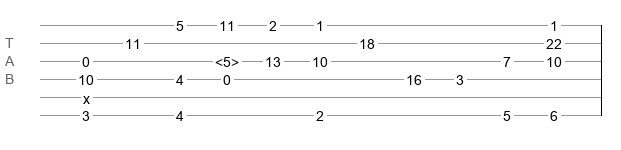0: (82, 54, 90, 64), (223, 72, 231, 82)
1: (316, 18, 324, 28), (550, 18, 558, 28)
10: (78, 72, 94, 82), (312, 54, 328, 64), (546, 54, 562, 64)
11: (125, 36, 141, 46), (219, 18, 235, 28)
13: (265, 54, 281, 64)
16: (406, 72, 422, 82)
18: (359, 36, 375, 46)
2: (269, 18, 277, 28), (316, 108, 324, 118)
22: (546, 36, 562, 46)
3: (82, 108, 90, 118), (456, 72, 464, 82)
4: (176, 72, 184, 82), (176, 108, 184, 118)
5: (176, 18, 184, 28), (503, 108, 511, 118)
6: (550, 108, 558, 118)
7: (503, 54, 511, 64)
harmonic: (215, 54, 239, 64)
x: (83, 91, 90, 99)
